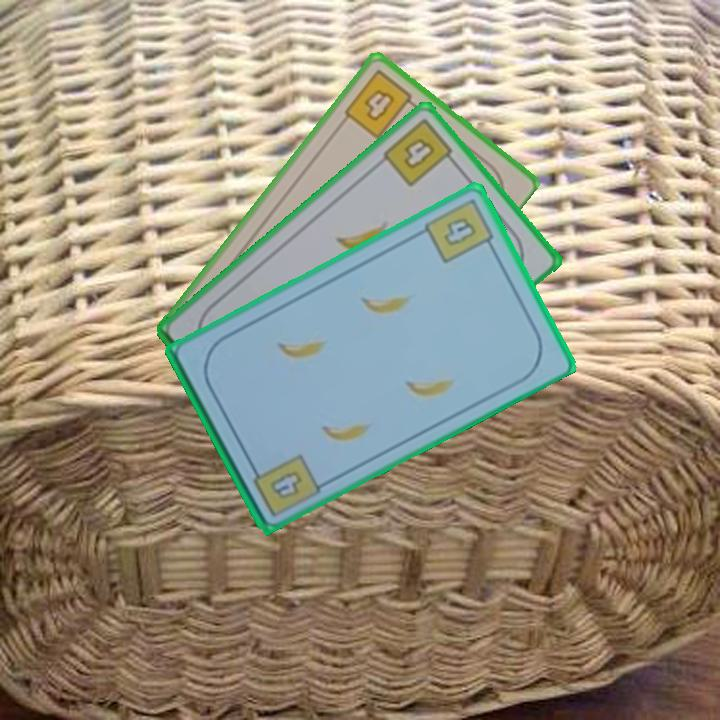4b: (340, 65, 421, 142), (379, 114, 461, 190), (420, 194, 499, 266), (266, 466, 306, 502)
